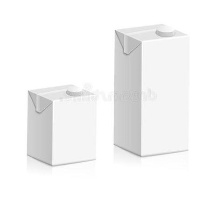carton: (106, 20, 194, 159), (20, 71, 101, 169)
